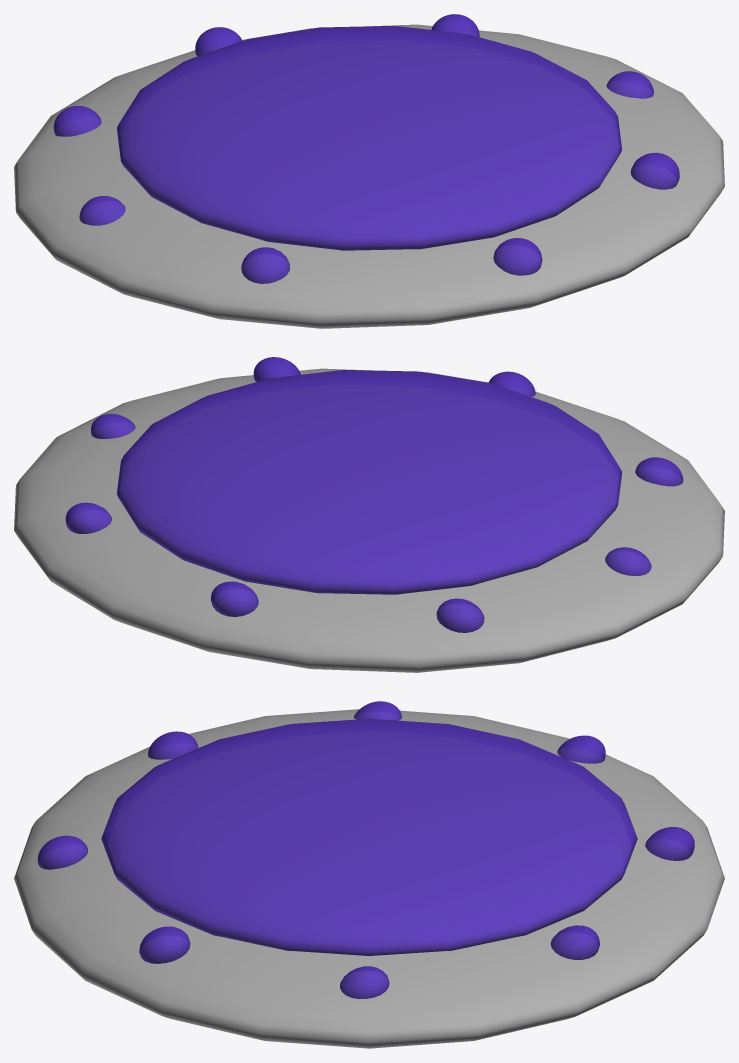
The model's file is teleportStarter.fbx.
3 renders of one model, top to bottom at view 1: azimuth 30°, elevation 25°; view 2: azimuth 150°, elevation 25°; view 3: azimuth 270°, elevation 25°, orthographic. The views are drawn at different scales.
Parts seen in each view (by area): view 1: pSphere2, pSphere3, nurbsSphere3; view 2: pSphere2, pSphere3, nurbsSphere3; view 3: pSphere2, pSphere3, nurbsSphere3.
Part boxes in pixels (x1,y1,x2,y2): pSphere2: (117, 26, 621, 250); pSphere3: (14, 24, 724, 328); nurbsSphere3: (53, 14, 679, 283); pSphere2: (116, 370, 621, 594); pSphere3: (14, 368, 724, 672); nurbsSphere3: (65, 357, 683, 632); pSphere2: (101, 718, 637, 955); pSphere3: (14, 709, 724, 1048); nurbsSphere3: (37, 701, 694, 998).
Size of the model in its own units: 5.12 by 0.9325 by 4.71.
